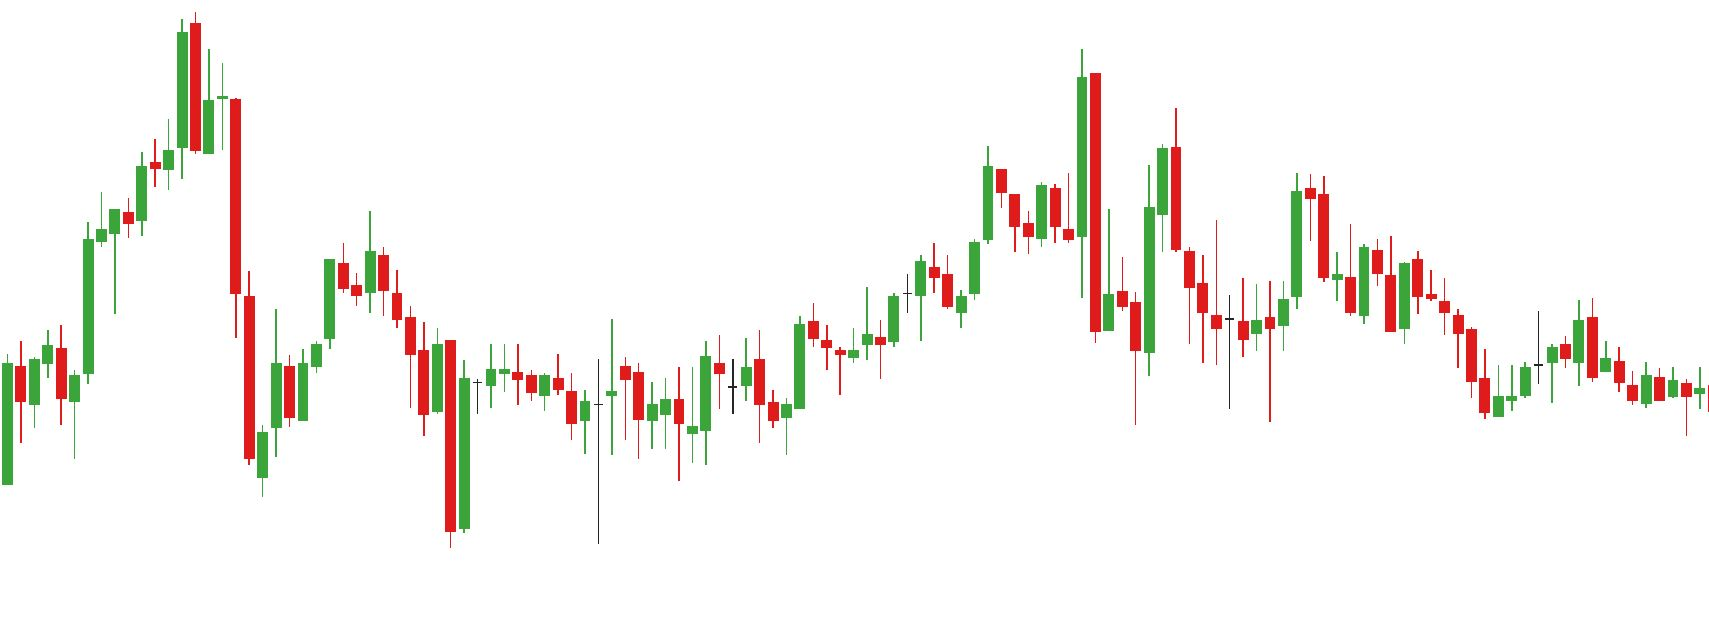buy: (255, 334, 475, 549)
sell: (980, 50, 1104, 228), (1211, 171, 1330, 314)
